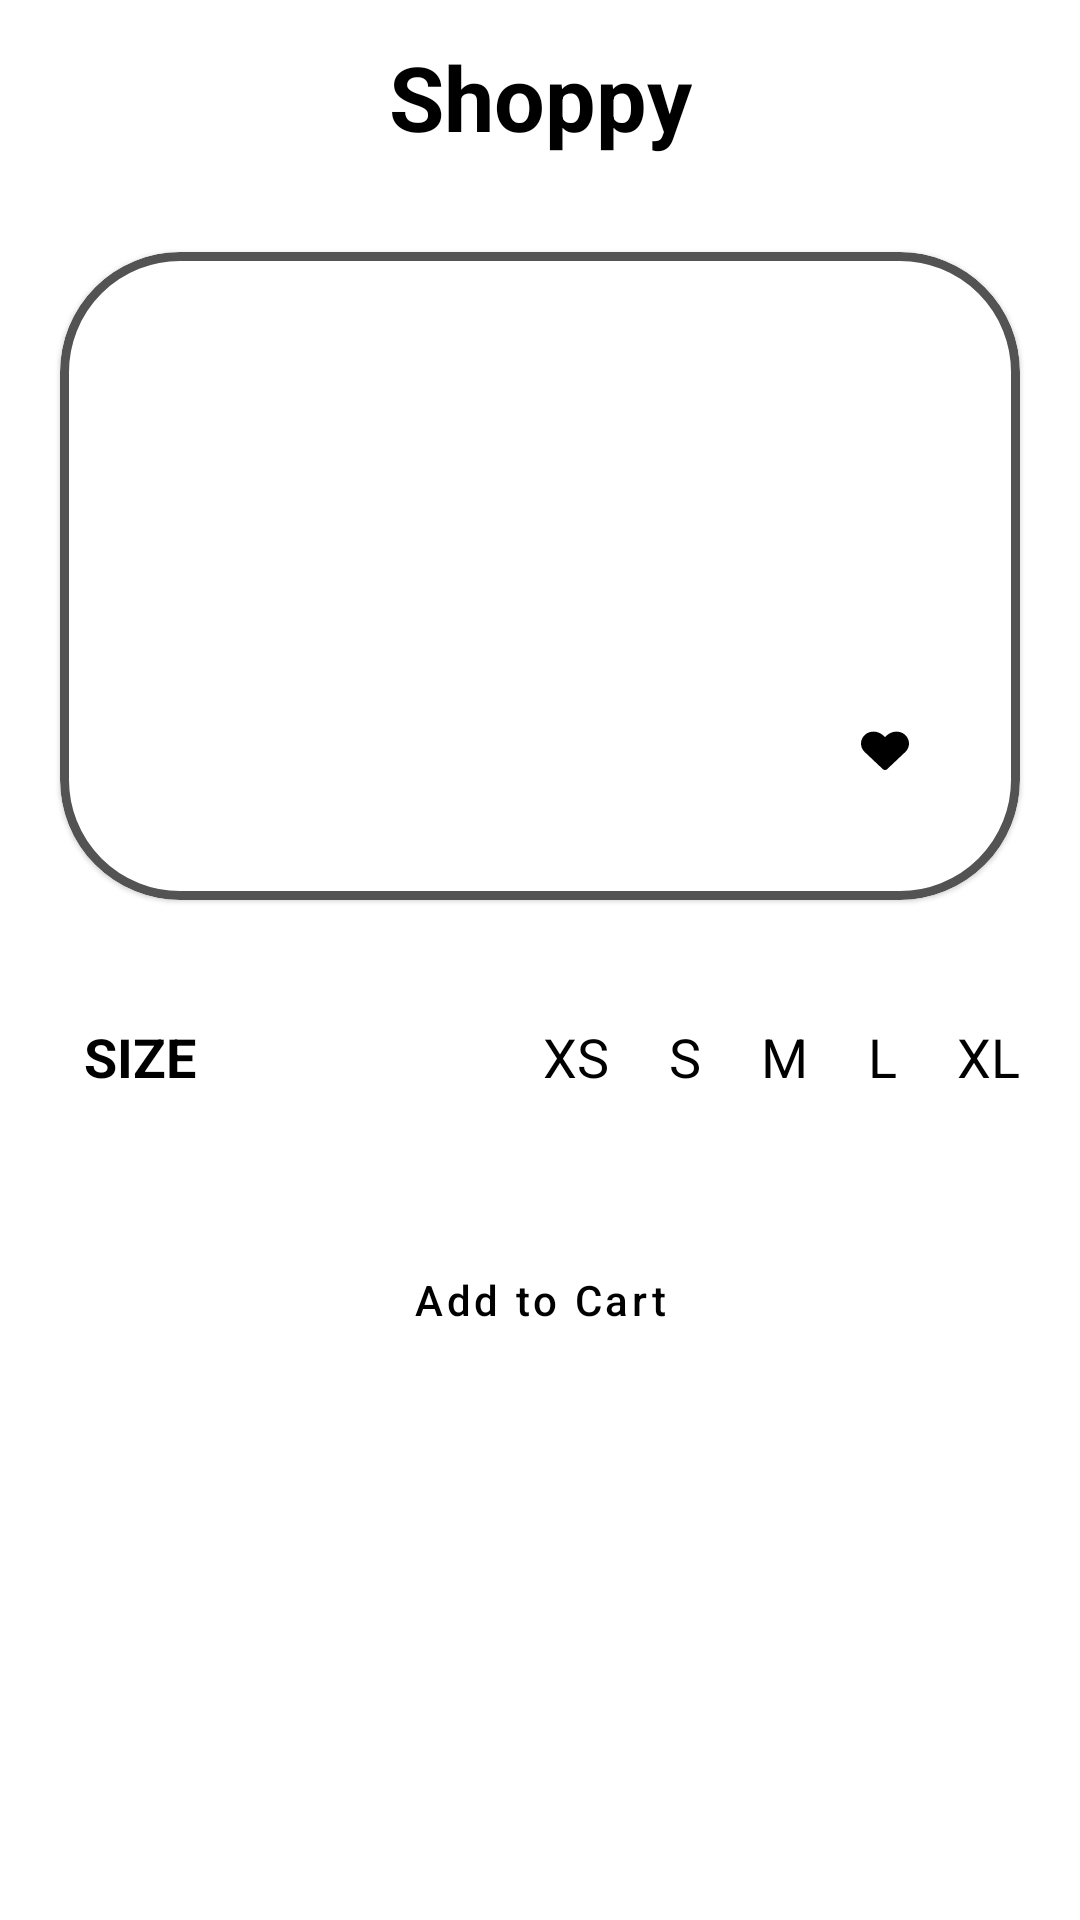

Locate icon controls on the screen. Image size 1080x1920, boxes as Rect(x1, y1, x2, y2).
fav roundsvg: Rect(861, 731, 909, 770)
